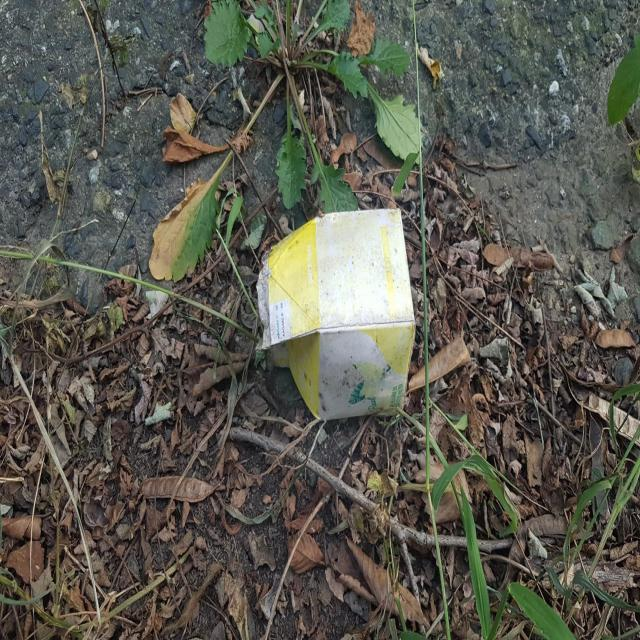paperpack: (258, 208, 415, 419)
